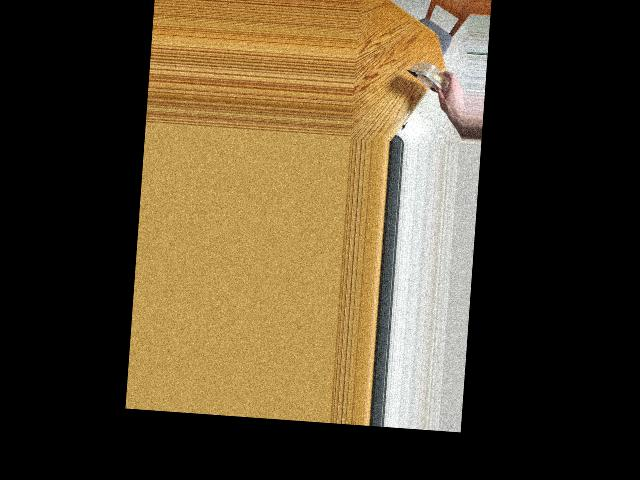cheese: (414, 50, 461, 110)
